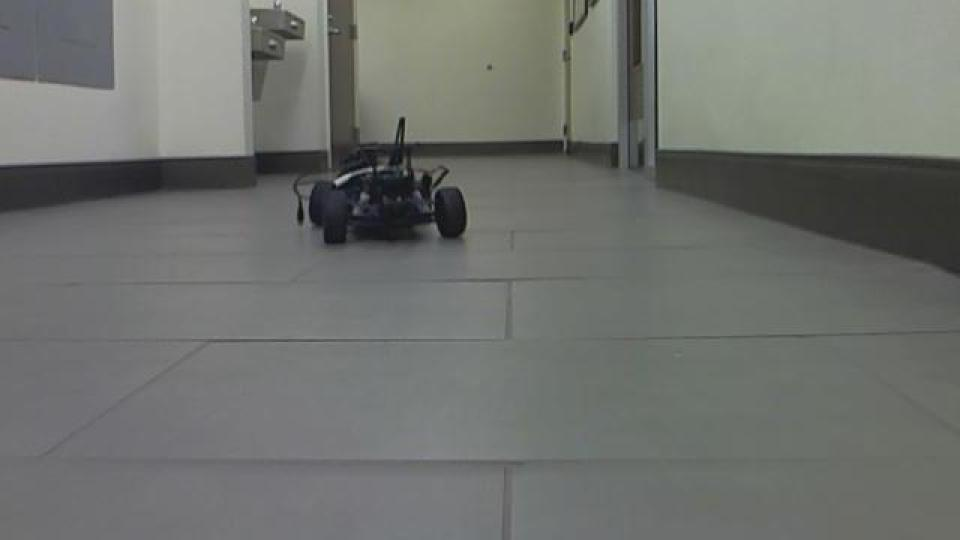car: (290, 114, 470, 248)
